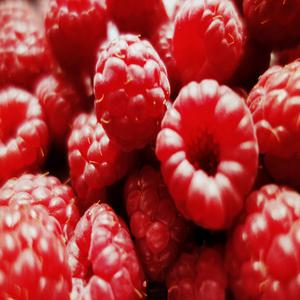raspb: (1, 1, 300, 300)
